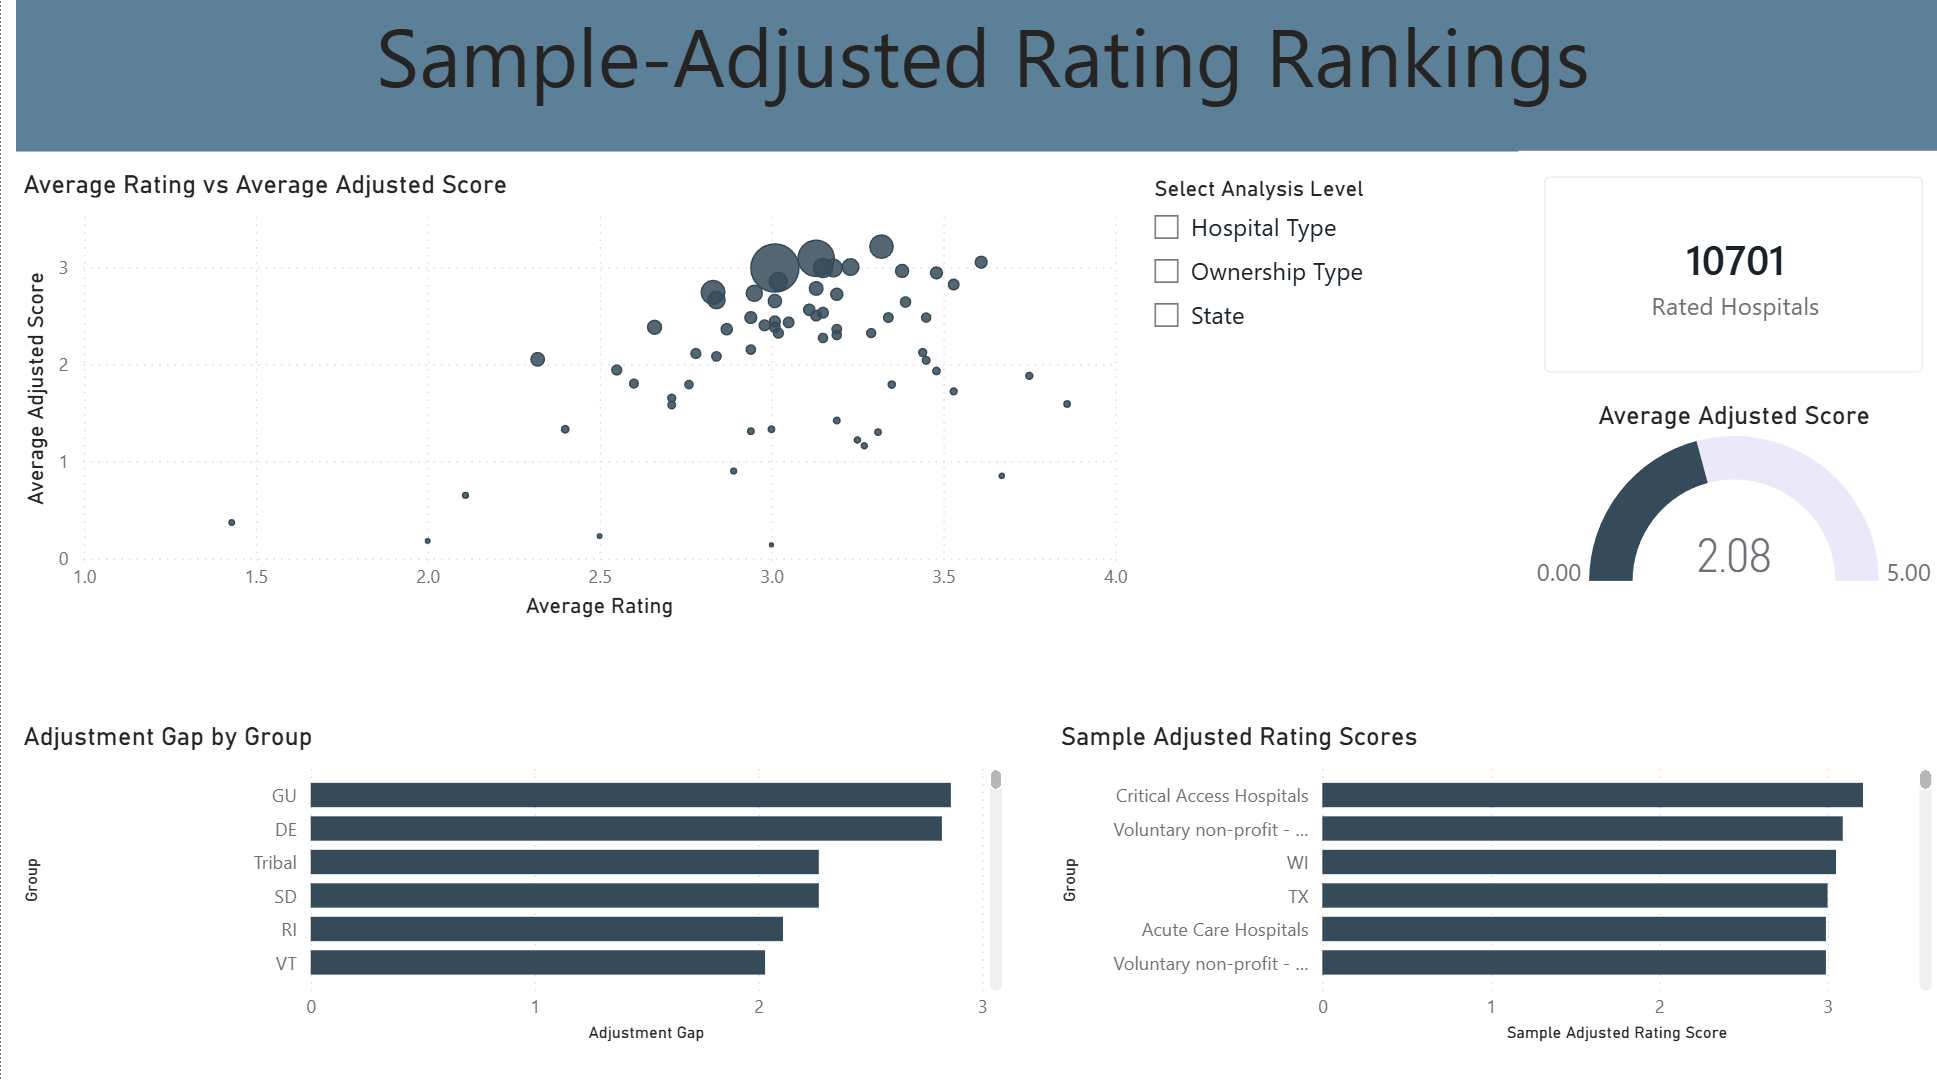

The dashboard page shown, as its layout file describes it:
{"tool":"powerbi","page":{"name":"Rating Rankings","canvas":[1280,720],"ordinal":1},"visuals":[{"type":"textbox","box":[9.7,0,1270.4,104.5],"z":0},{"type":"gauge","title":"Average Adjusted Score","fields":{"Y":["Avg(Combined_Rating_Rankings.sample_adjusted_rating_score)"]},"box":[996.7,267.6,283.5,129.3],"z":1000},{"type":"scatterChart","title":"Average Rating vs Average Adjusted Score","fields":{"X":["Avg(Combined_Rating_Rankings.avg_rating)"],"Y":["Avg(Combined_Rating_Rankings.sample_adjusted_rating_score)"],"Size":["Sum(Combined_Rating_Rankings.rated_hospitals)"],"Category":["Combined_Rating_Rankings.group_name"]},"box":[9.7,116.1,735.3,300.3],"z":2000},{"type":"slicer","fields":{"Values":["Combined_Rating_Rankings.rating_level"]},"box":[745.1,116.1,230.3,137.3],"z":3000},{"type":"clusteredBarChart","fields":{"Y":["Sum(Combined_Rating_Rankings.adjustment_gap)"],"Category":["Combined_Rating_Rankings.group_name"]},"box":[9.7,478.4,652.9,216.2],"z":4000},{"type":"cardVisual","fields":{"Data":["Sum(Combined_Rating_Rankings.rated_hospitals)"]},"box":[996.7,104.5,283.5,163],"z":5000},{"type":"clusteredBarChart","title":"Sample Adjusted Rating Scores","fields":{"Category":["Combined_Rating_Rankings.group_name"],"Y":["Avg(Combined_Rating_Rankings.sample_adjusted_rating_score)"]},"box":[691,478.4,582.1,216.2],"z":6000}]}

Visuals, with their boxes in screenshot pixels (x1, y1, x2, y2), scaled from the page's 1280x720 canvas onto the 1937x1080 screenshot:
textbox: x1=15 y1=0 x2=1936 y2=157
"Average Adjusted Score" gauge: x1=1508 y1=401 x2=1936 y2=595
"Average Rating vs Average Adjusted Score" scatterChart: x1=15 y1=174 x2=1127 y2=625
slicer - Combined_Rating_Rankings.rating_level: x1=1128 y1=174 x2=1476 y2=380
clusteredBarChart - Sum(Combined_Rating_Rankings.adjustment_gap) x Combined_Rating_Rankings.group_name: x1=15 y1=718 x2=1003 y2=1042
cardVisual - Sum(Combined_Rating_Rankings.rated_hospitals): x1=1508 y1=157 x2=1936 y2=401
"Sample Adjusted Rating Scores" clusteredBarChart: x1=1046 y1=718 x2=1927 y2=1042
